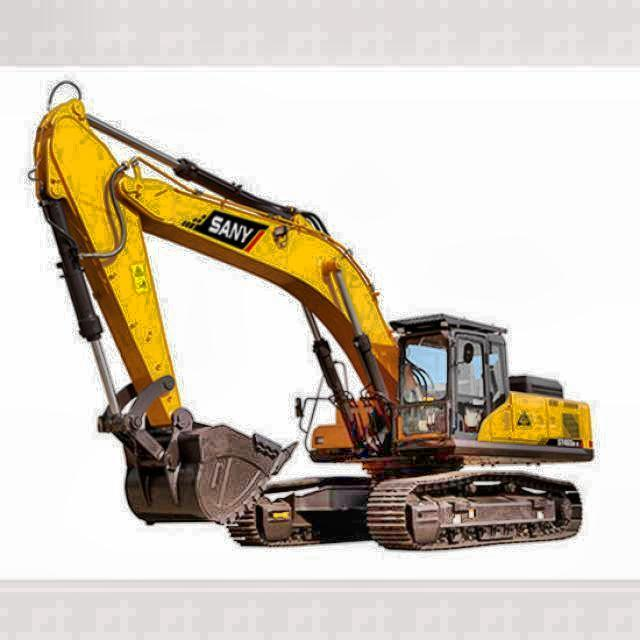excavator: (28, 78, 595, 556)
